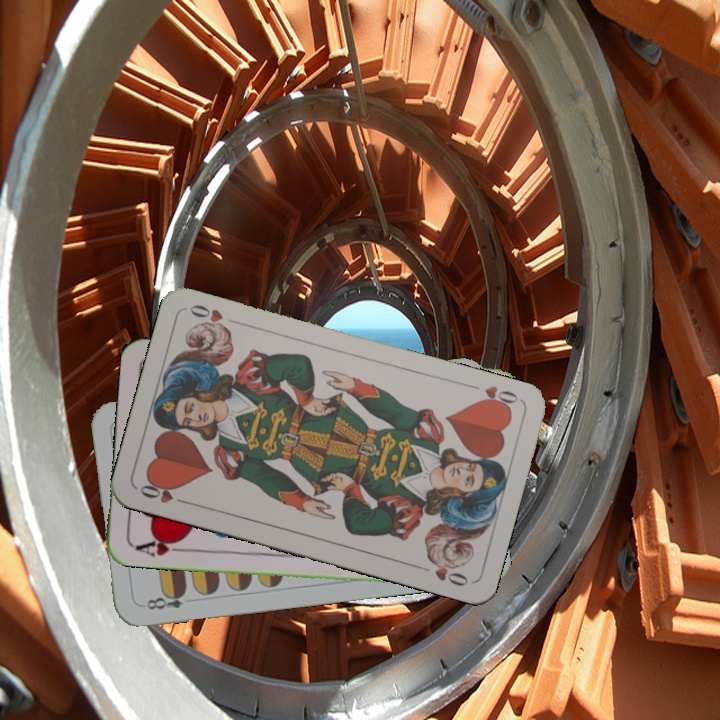E8: (138, 586, 189, 612)
HA: (131, 533, 189, 560)
HO: (464, 380, 521, 413), (135, 477, 193, 508)
